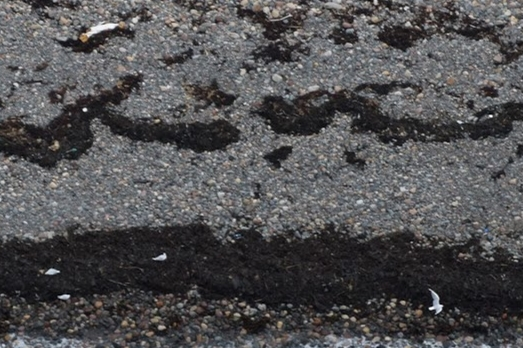straight_bar: (77, 19, 120, 44)
